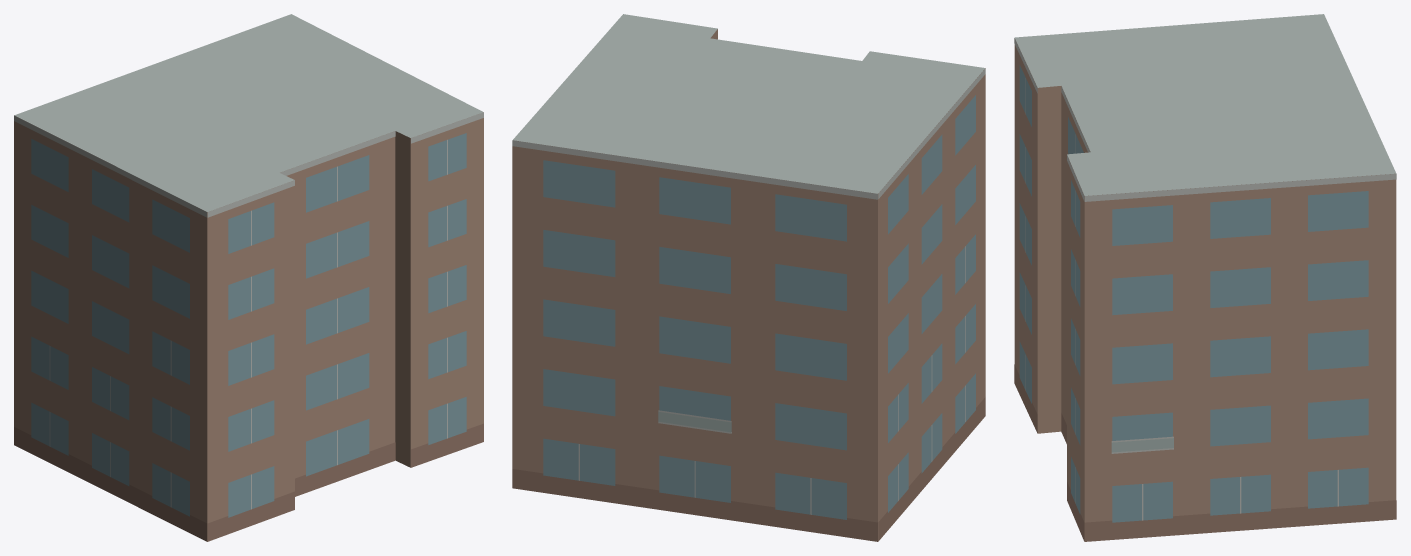
File: survey-upis-32944493.glb
The picture shows the model from 3 angles, left to right: view 1: azimuth 30°, elevation 25°; view 2: azimuth 150°, elevation 25°; view 3: azimuth 270°, elevation 25°; orthographic projection. The views are drawn at different scales.
Visible parts, largest first — view 1: survey-upis-32944493.tmp; view 2: survey-upis-32944493.tmp; view 3: survey-upis-32944493.tmp.
Boxes of the visible parts, x1,y1,x2,y2 form: survey-upis-32944493.tmp: (14,14,483,541); survey-upis-32944493.tmp: (512,14,985,541); survey-upis-32944493.tmp: (1014,14,1396,541).
Size of the model in its own units: 16.09 by 14.25 by 14.28.
